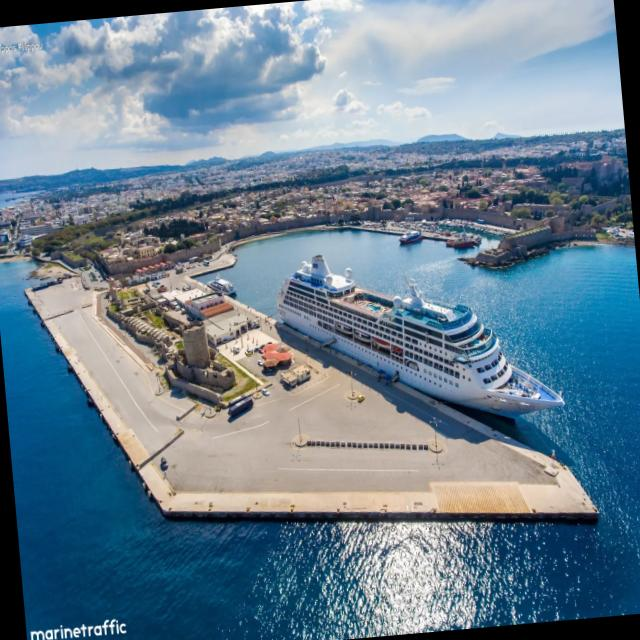Cruise: (276, 255, 564, 419)
